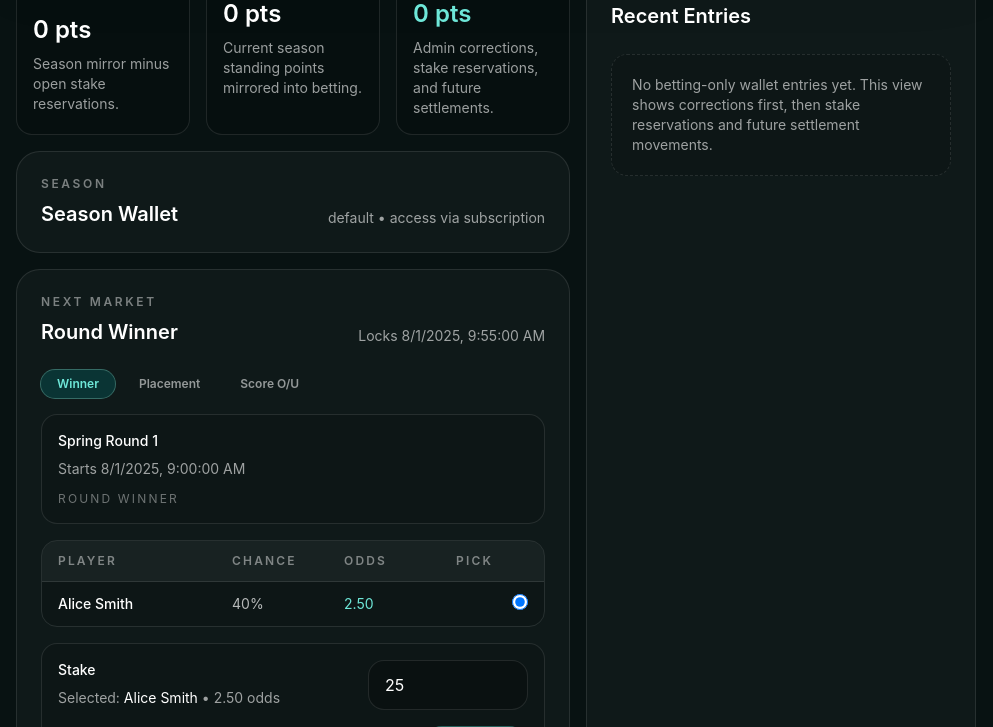
Test: Betting page › Market tabs › clicking Placement tab shows placement sub-tab buttons
(page scrolled)
Click the button "Placement" at x=170, y=384, box [123, 370, 216, 398]
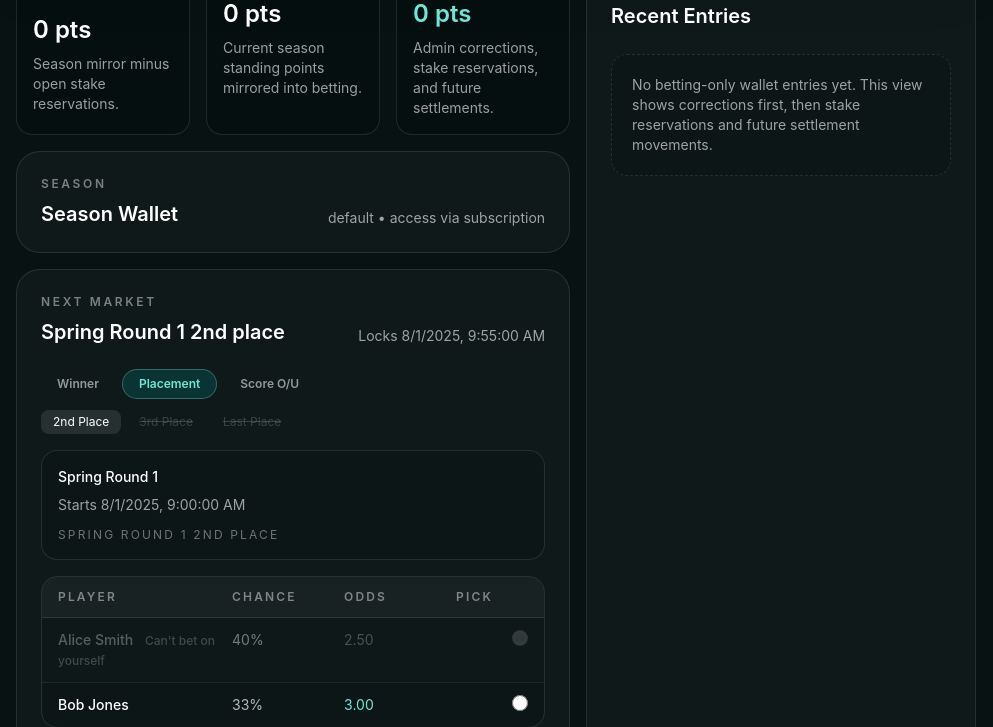
Expected: the button "2nd Place" is shown, [41, 410, 121, 434]
